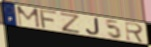5: (104, 19, 123, 40)
F: (40, 9, 60, 30)
J: (85, 17, 101, 36)
M: (16, 5, 42, 29)
R: (124, 21, 146, 44)
Z: (59, 11, 83, 35)
